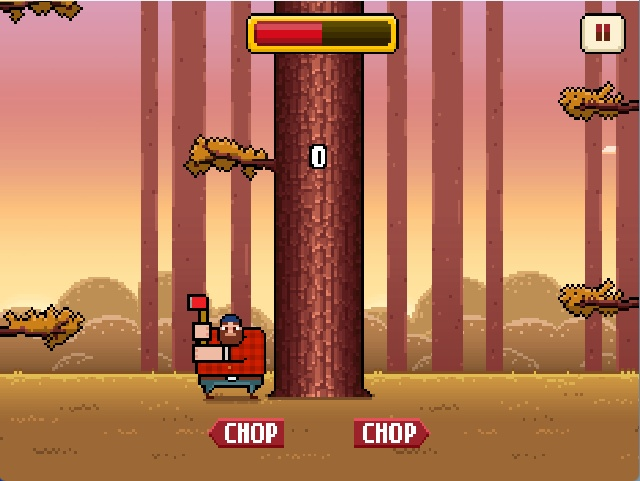left_obs: (178, 126, 284, 185)
timberman: (172, 286, 277, 409)
